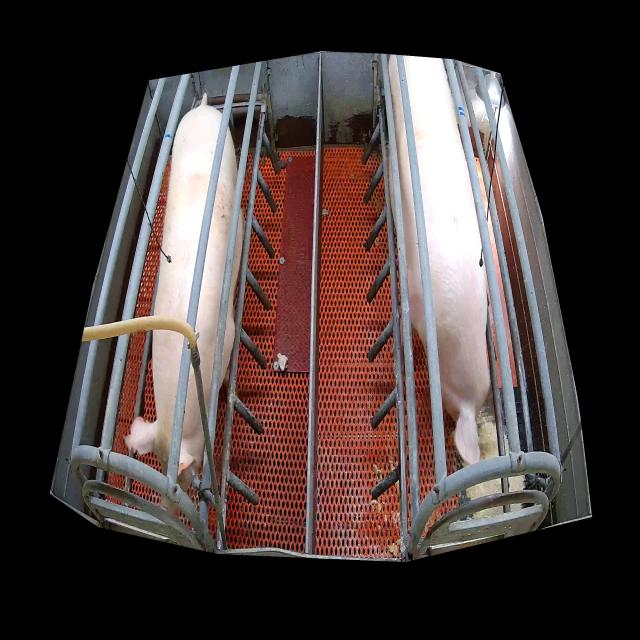pig: (124, 106, 243, 517), (388, 57, 491, 465)
